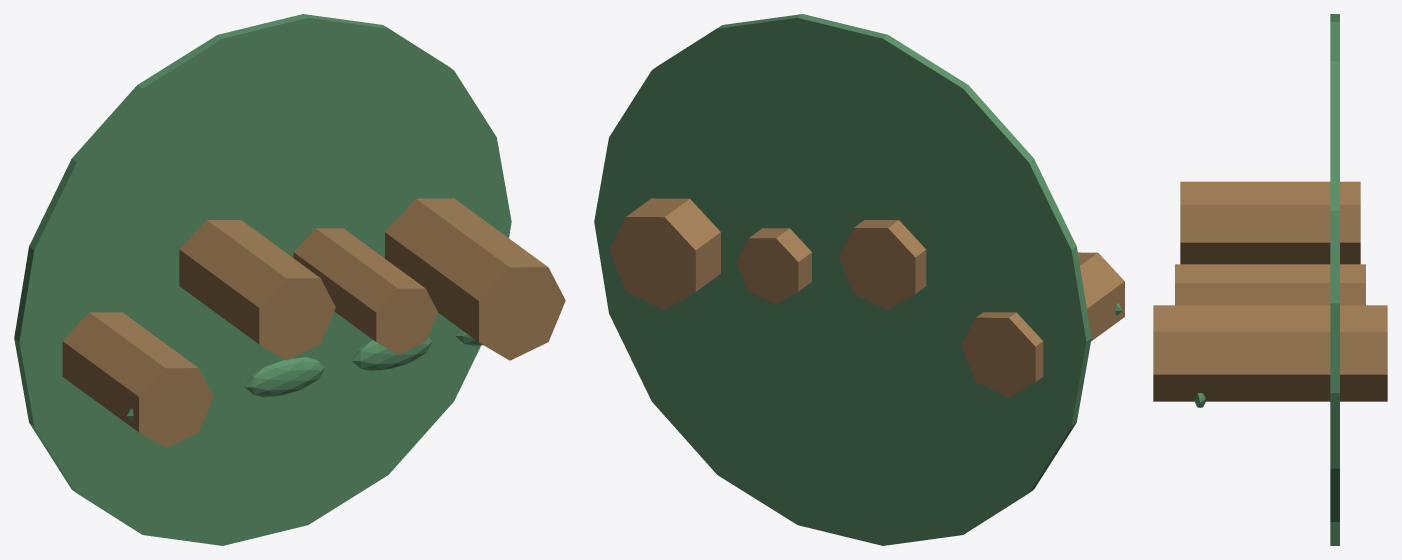
Rendered from 02_display_prop_cluster.glb.
3 views of the same model, side by side, from view 1: azimuth 30°, elevation 25°; view 2: azimuth 150°, elevation 25°; view 3: azimuth 270°, elevation 25° (orthographic). The views are drawn at different scales.
Parts seen in each view (by area): view 1: scatter_base, root_stump_3, root_stump_1, root_stump_0, root_stump_2, moss_1, moss_2; view 2: scatter_base, root_stump_3, root_stump_0, root_stump_1, root_stump_2; view 3: root_stump_3, root_stump_1, root_stump_2, scatter_base.
Boxes of the visible parts, <box> form: scatter_base: <box>14,14,511,545</box>; root_stump_3: <box>385,198,565,360</box>; root_stump_1: <box>179,220,335,360</box>; root_stump_0: <box>62,312,213,448</box>; root_stump_2: <box>293,228,437,354</box>; moss_1: <box>245,357,325,397</box>; moss_2: <box>352,337,432,371</box>; scatter_base: <box>594,14,1091,545</box>; root_stump_3: <box>609,198,720,310</box>; root_stump_0: <box>961,252,1124,397</box>; root_stump_1: <box>839,220,926,309</box>; root_stump_2: <box>736,228,811,304</box>; root_stump_3: <box>1153,305,1387,401</box>; root_stump_1: <box>1180,181,1360,264</box>; root_stump_2: <box>1175,264,1365,305</box>; scatter_base: <box>1330,14,1339,545</box>.
Size of the model in its own units: 1.9 by 1.87 by 0.833.
